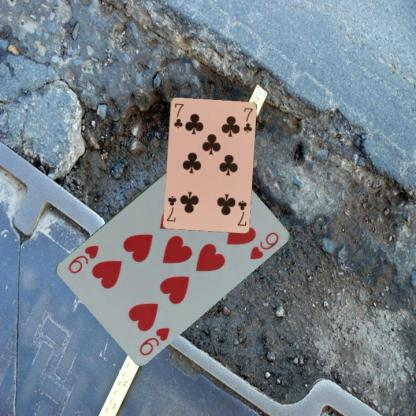7c: (171, 101, 185, 130), (234, 198, 248, 226)
9h: (136, 324, 171, 357)
